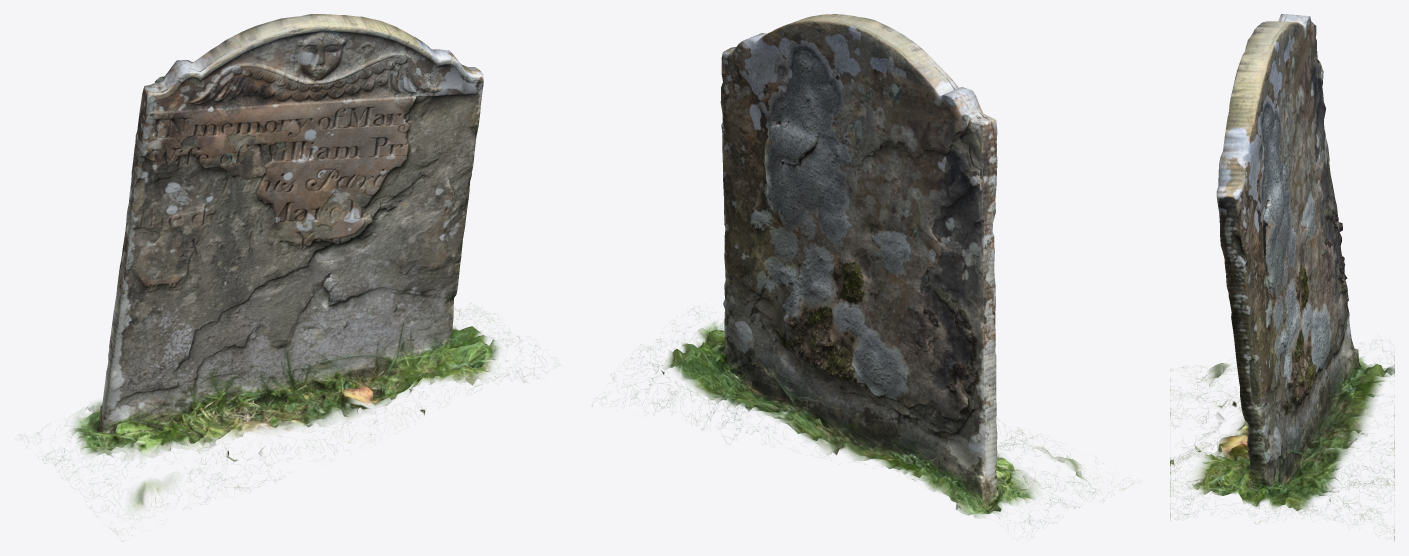
Rendered from grave_st._peters_church_of_llanwenarth_citra.glb.
3 renders of one model, left to right at view 1: azimuth 30°, elevation 25°; view 2: azimuth 150°, elevation 25°; view 3: azimuth 270°, elevation 25°, orthographic. The views are drawn at different scales.
Visible parts, largest first — view 1: Object_2; view 2: Object_2; view 3: Object_2.
Boxes of the visible parts, box(x1,y1,x2,y2) form: Object_2: box(28, 14, 545, 541); Object_2: box(592, 14, 1134, 528); Object_2: box(1170, 14, 1394, 540).
Bounding box in the file's own units: 0.9573 × 0.9031 × 0.4116.
1 material, 1 textured.
